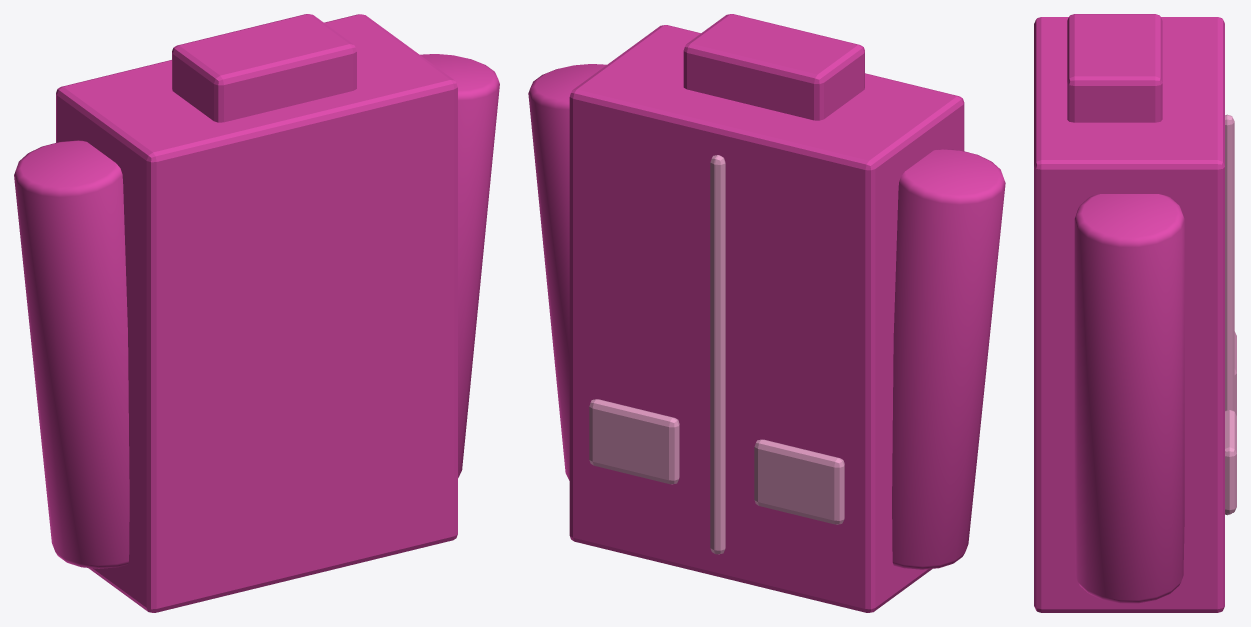
The model's file is VM-DAM-8840.glb.
The picture shows the model from 3 angles, left to right: view 1: azimuth 30°, elevation 25°; view 2: azimuth 150°, elevation 25°; view 3: azimuth 270°, elevation 25°; orthographic projection.
Parts seen in each view (by area): view 1: Abrigo Oversized Magenta Wool; view 2: Abrigo Oversized Magenta Wool; view 3: Abrigo Oversized Magenta Wool.
Boxes of the visible parts, x1,y1,x2,y2 form: Abrigo Oversized Magenta Wool: (14, 14, 499, 612); Abrigo Oversized Magenta Wool: (528, 14, 1005, 612); Abrigo Oversized Magenta Wool: (1034, 14, 1236, 612).
Bounding box in the file's own units: 0.7182 × 0.7376 × 0.2732.
